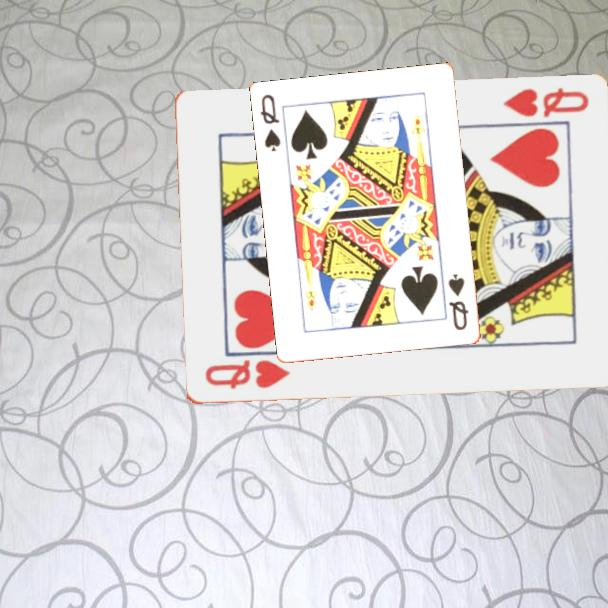h12: (201, 357, 293, 393), (499, 85, 591, 121)
s12: (257, 91, 284, 155), (445, 270, 472, 333)
